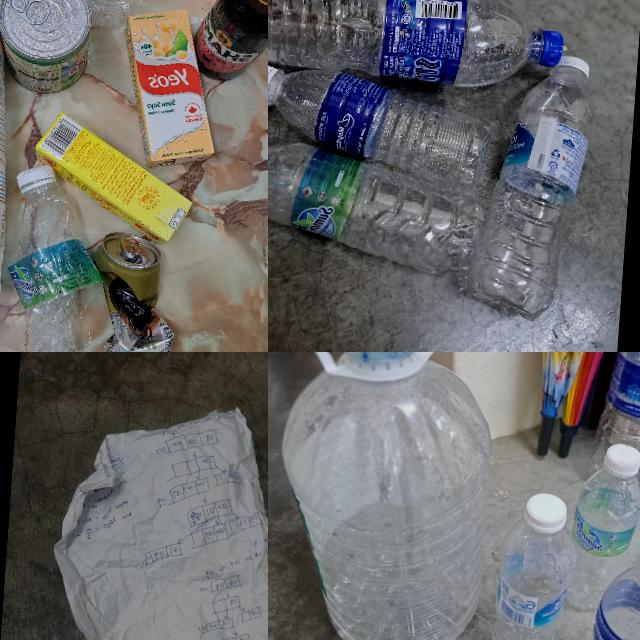aba de lata: (20, 0, 56, 25)
caixinha: (33, 116, 188, 242), (116, 2, 222, 172)
garrafa de vidro: (187, 0, 268, 92)
garrafa plástica: (269, 352, 495, 640), (460, 73, 594, 326), (268, 139, 473, 271), (268, 67, 492, 186), (268, 0, 538, 86), (4, 182, 105, 352), (556, 473, 640, 614), (484, 519, 575, 640), (586, 352, 640, 484), (569, 572, 640, 640), (70, 0, 166, 30)
lata: (0, 0, 98, 95)
papel: (45, 394, 268, 640)
tampa plástica: (521, 492, 571, 535), (602, 441, 640, 477), (532, 28, 563, 71), (12, 164, 52, 193), (554, 52, 591, 82), (268, 58, 277, 108)
